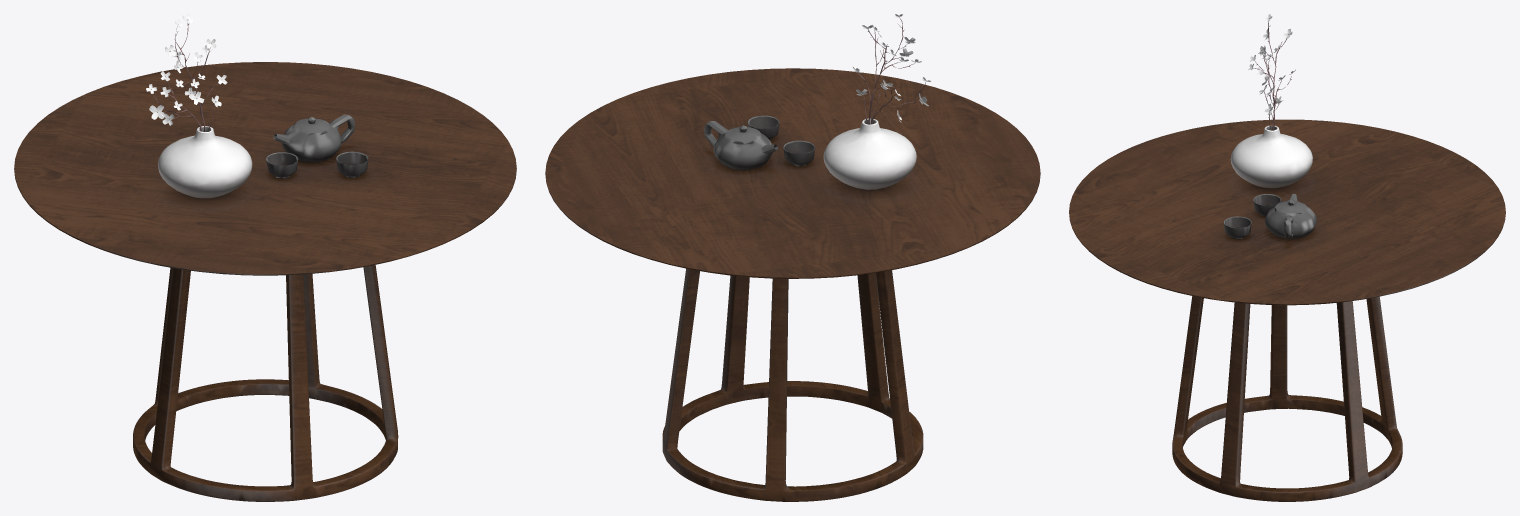
File: raw_model.obj
3 renders of one model, left to right at view 1: azimuth 30°, elevation 25°; view 2: azimuth 150°, elevation 25°; view 3: azimuth 270°, elevation 25°, orthographic. The views are drawn at different scales.
Visible parts, largest first — view 1: solid_001, solid_003, solid_002, solid_004, solid_005; view 2: solid_001, solid_003, solid_002, solid_005, solid_004; view 3: solid_001, solid_003, solid_002, solid_004, solid_005.
Part boxes in pixels (bbox=[...]): solid_001: bbox=[14, 62, 516, 501]; solid_003: bbox=[158, 126, 252, 198]; solid_002: bbox=[266, 114, 368, 178]; solid_004: bbox=[146, 14, 227, 125]; solid_005: bbox=[152, 23, 218, 131]; solid_001: bbox=[545, 68, 1040, 501]; solid_003: bbox=[823, 118, 916, 189]; solid_002: bbox=[704, 115, 815, 170]; solid_005: bbox=[856, 17, 925, 124]; solid_004: bbox=[853, 14, 930, 122]; solid_001: bbox=[1069, 119, 1505, 501]; solid_003: bbox=[1230, 125, 1312, 188]; solid_002: bbox=[1223, 193, 1316, 239]; solid_004: bbox=[1248, 14, 1295, 114]; solid_005: bbox=[1253, 21, 1291, 130].
Size of the model in its own units: 1.24 by 1.25 by 1.24.
1 material, 1 textured.
